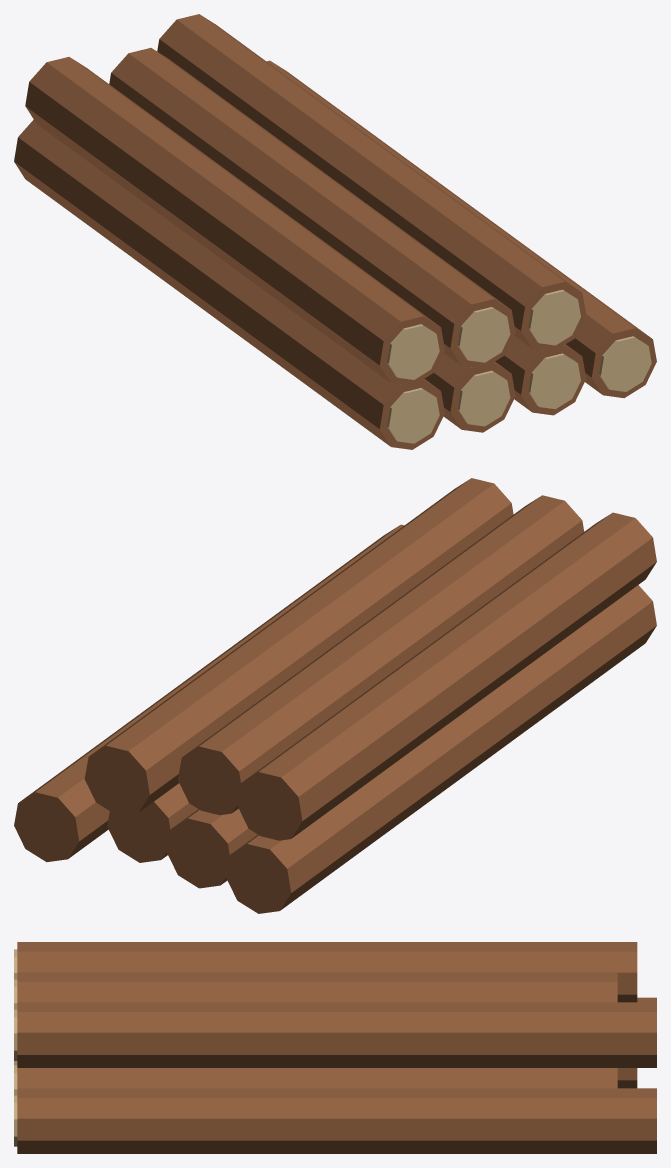
File: 079_timber_log_stack.glb
The picture shows the model from 3 angles, top to bottom: view 1: azimuth 30°, elevation 25°; view 2: azimuth 150°, elevation 25°; view 3: azimuth 270°, elevation 25°; orthographic projection. The views are drawn at different scales.
Visible parts, largest first — view 1: Timber log stack; view 2: Timber log stack; view 3: Timber log stack.
Part boxes in pixels (x1=…): Timber log stack: x1=14, y1=14, x2=656, y2=449; Timber log stack: x1=14, y1=478, x2=656, y2=913; Timber log stack: x1=14, y1=942, x2=656, y2=1153.
Bounding box in the file's own units: 1.14 × 0.5138 × 2.61.
